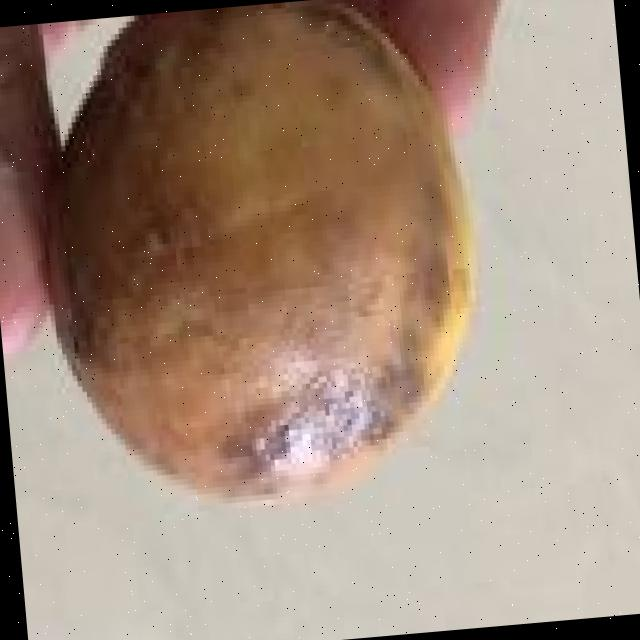Bad_Lime-0-1-day: (39, 0, 475, 509)
